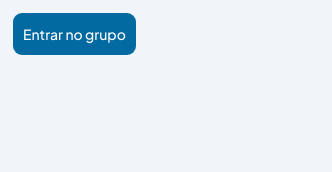
JoinButton › desabilita o botão e mostra Entrando… durante o pedido
Click the button "Entrar no grupo". click: (74, 34)
box: [12, 12, 137, 56]
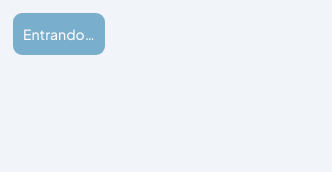
Check: the button "Entrando…" is disabled, box [12, 12, 106, 56]
Check: the button "Entrar no grupo" is gone
